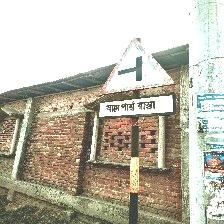Side-road-left: (99, 38, 176, 118)
